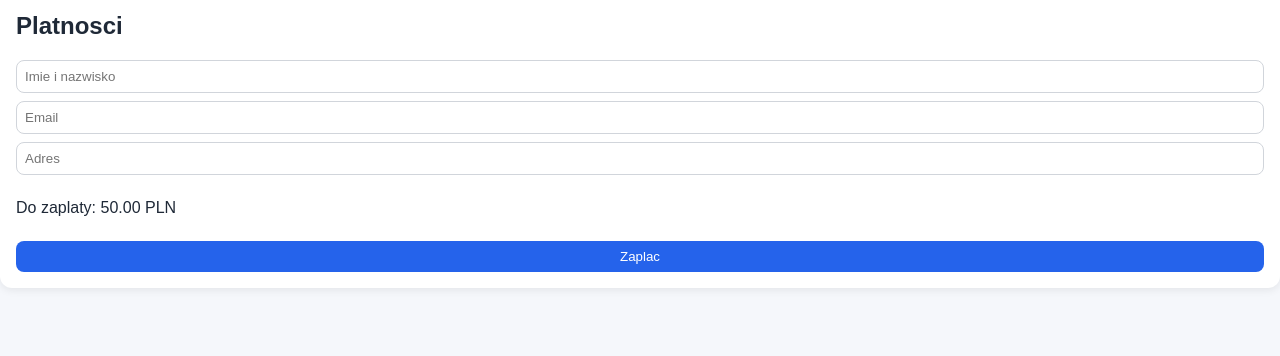
Test case: Platnosci › pokazuje domyslna wiadomosc gdy API nie zwraca message
The width and height of the screenshot is (1280, 356).
Type "Jan Kowalski" into the field with placeholder "Imie i nazwisko" at [640, 76], box [16,60,1264,93]
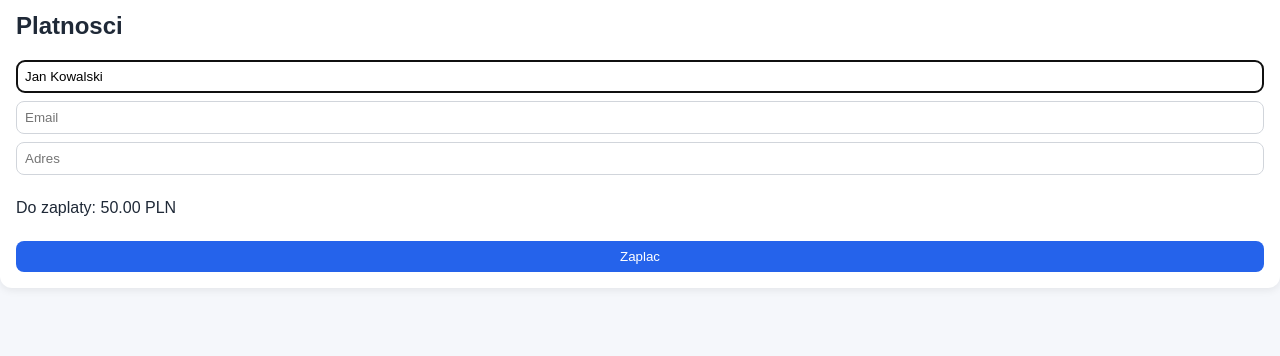
Type "jan@example.com" into the field with placeholder "Email" at [640, 117], box [16,101,1264,134]
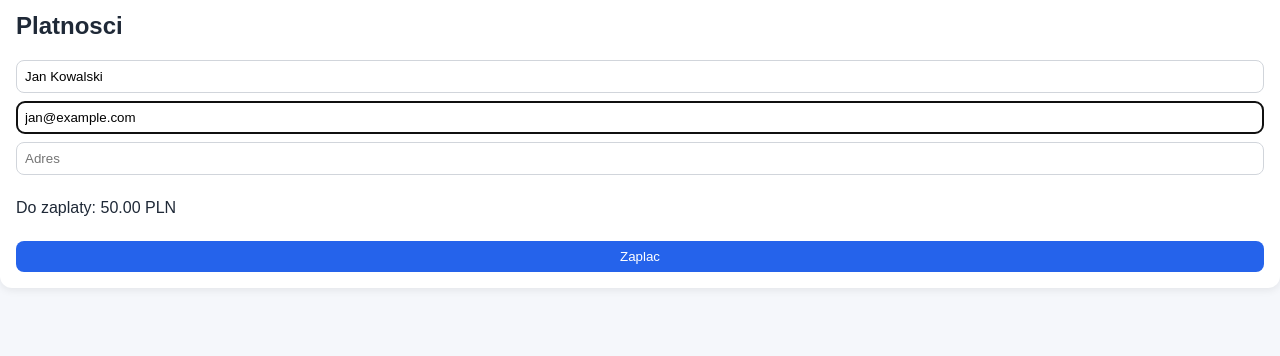
Type "ul. Testowa 1" into the field with placeholder "Adres" at [640, 158], box [16,142,1264,175]
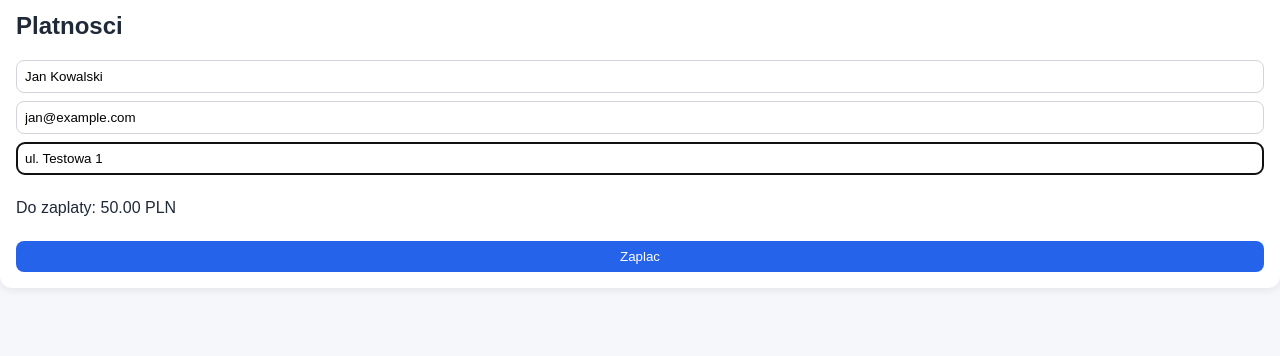
Click the button "Zaplac" at [640, 256], box [16,241,1264,272]
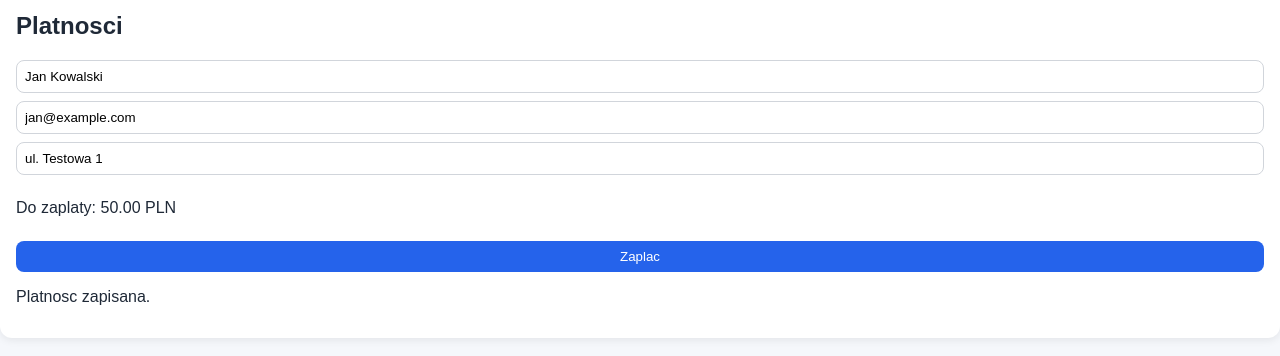
Check: the text "Platnosc zapisana." is shown, box [16,288,150,305]
